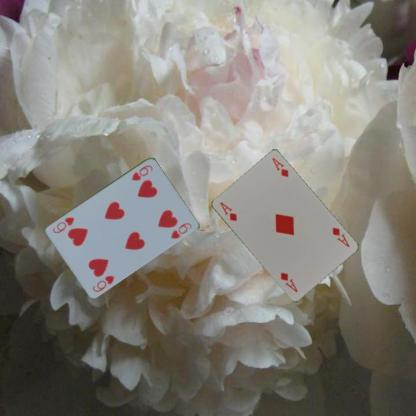6h: (128, 162, 155, 182), (90, 273, 116, 293)
Ad: (329, 225, 351, 248), (217, 199, 238, 222)
